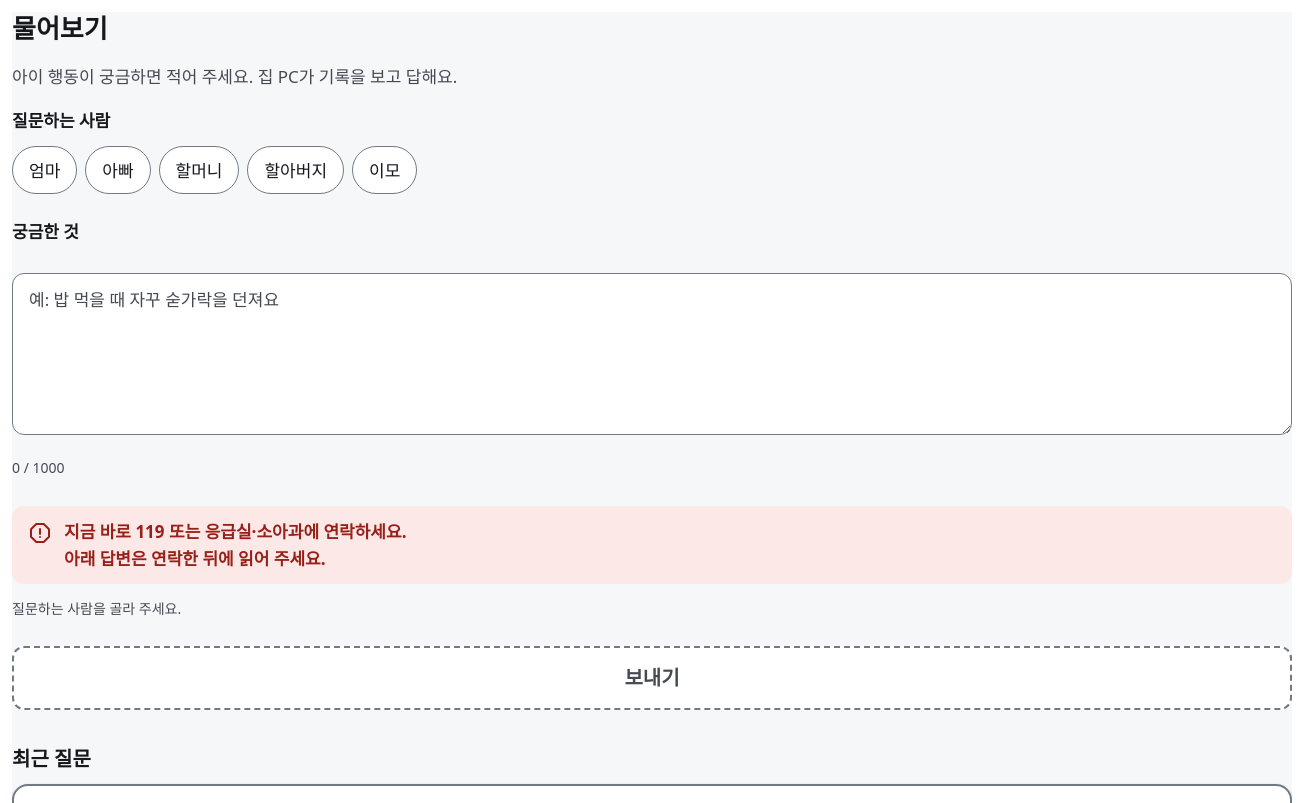
Test case: AskPage (S50 입력·목록) › 기록자와 글이 없으면 보내기가 꺼져 있다
Check: the button "보내기" is disabled, box [12,646,1292,710]
Type "합성 질문" into the text box labelled "궁금한 것".
click(652, 354); type("합성 질문")  # box [12,273,1292,435]
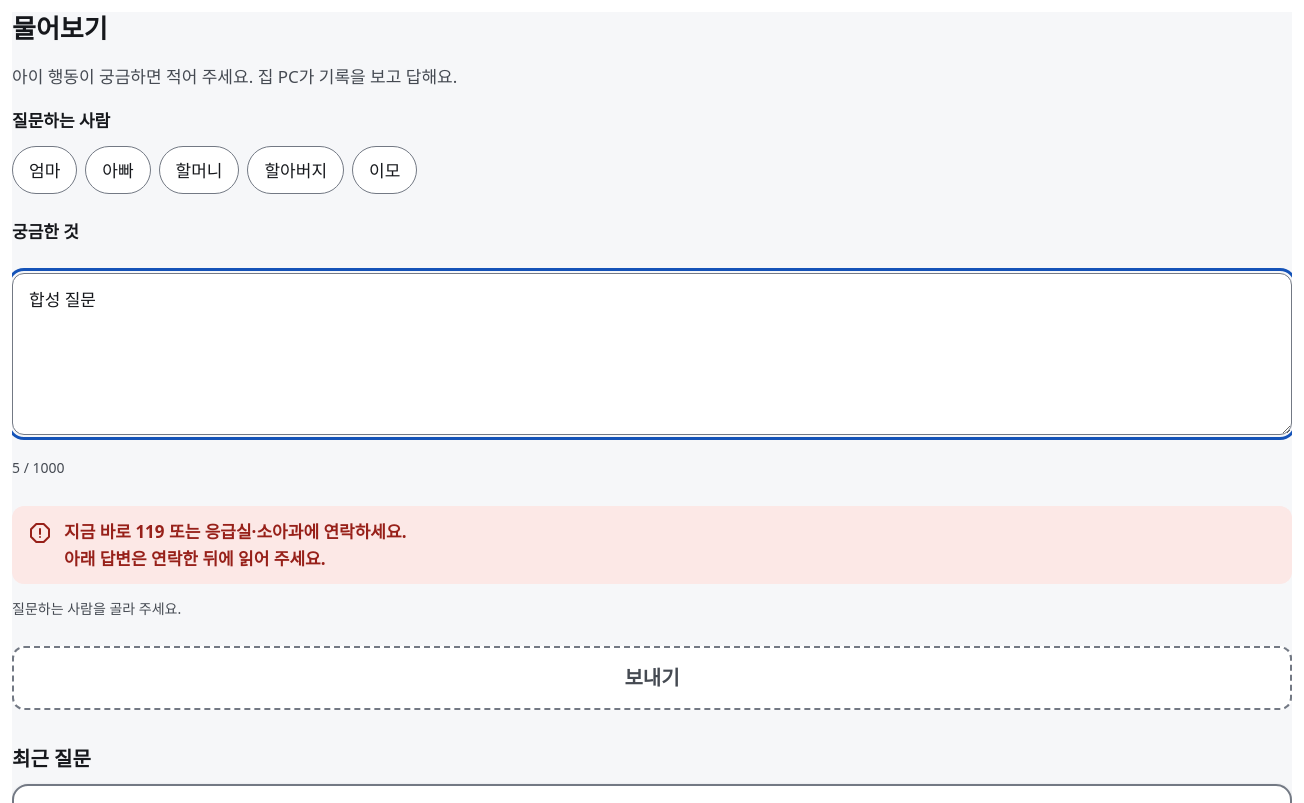
Check: the button "보내기" is disabled, box [12,646,1292,710]
Click the button "엄마".
click(45, 170)  # box [12,146,77,194]
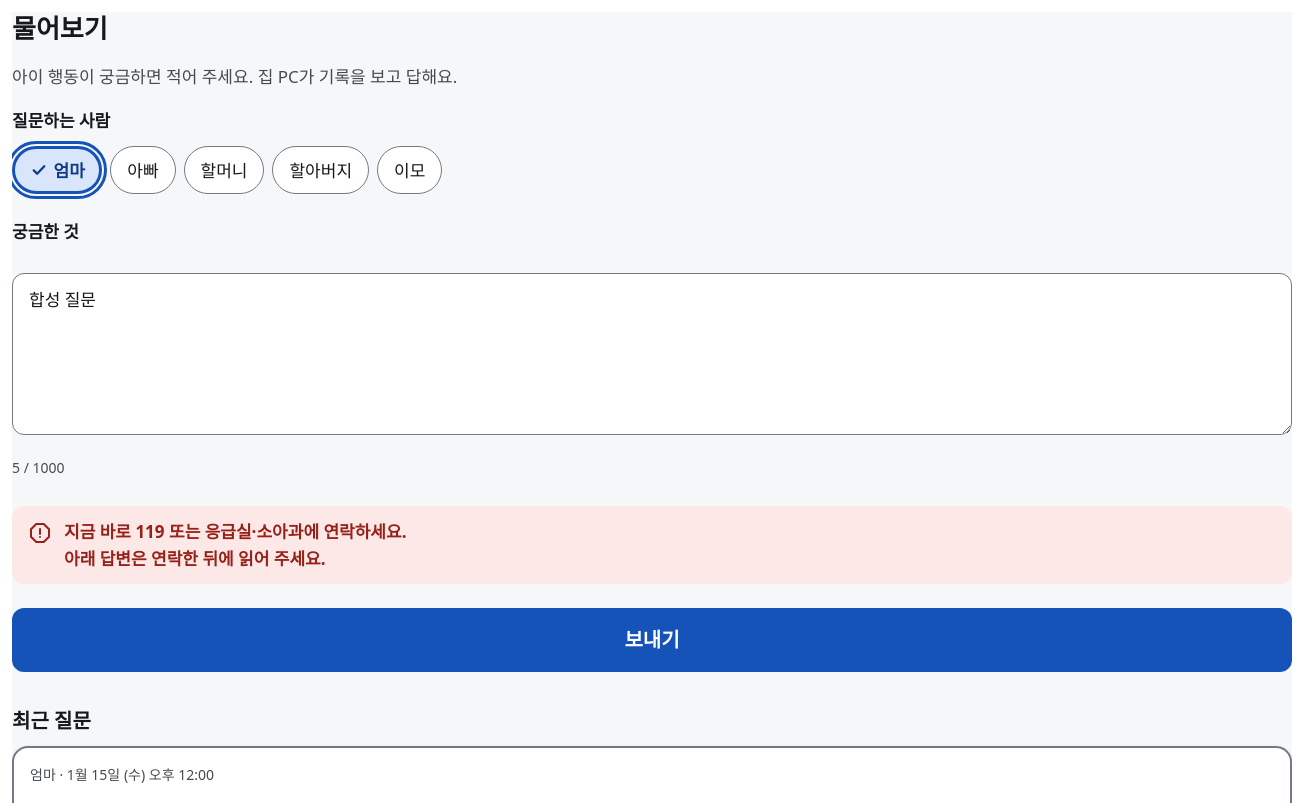
Check: the button "보내기" is enabled, box [12,608,1292,672]
